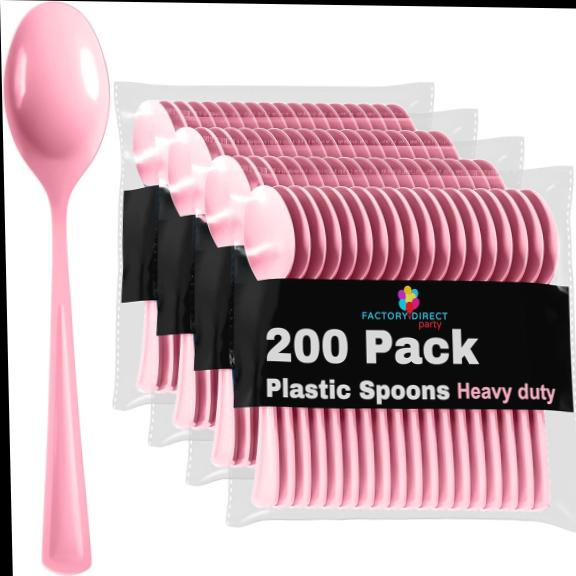Plastik: (4, 3, 109, 574)
